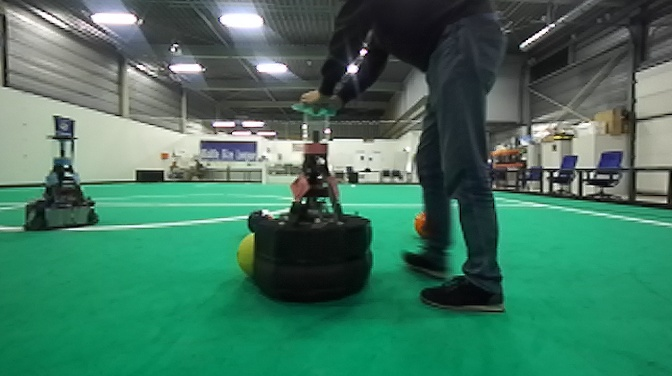ball: (237, 231, 258, 280), (413, 209, 424, 239)
goalpost: (259, 161, 266, 186)
human: (291, 1, 514, 319)
robot: (253, 98, 381, 311), (18, 110, 101, 236)
